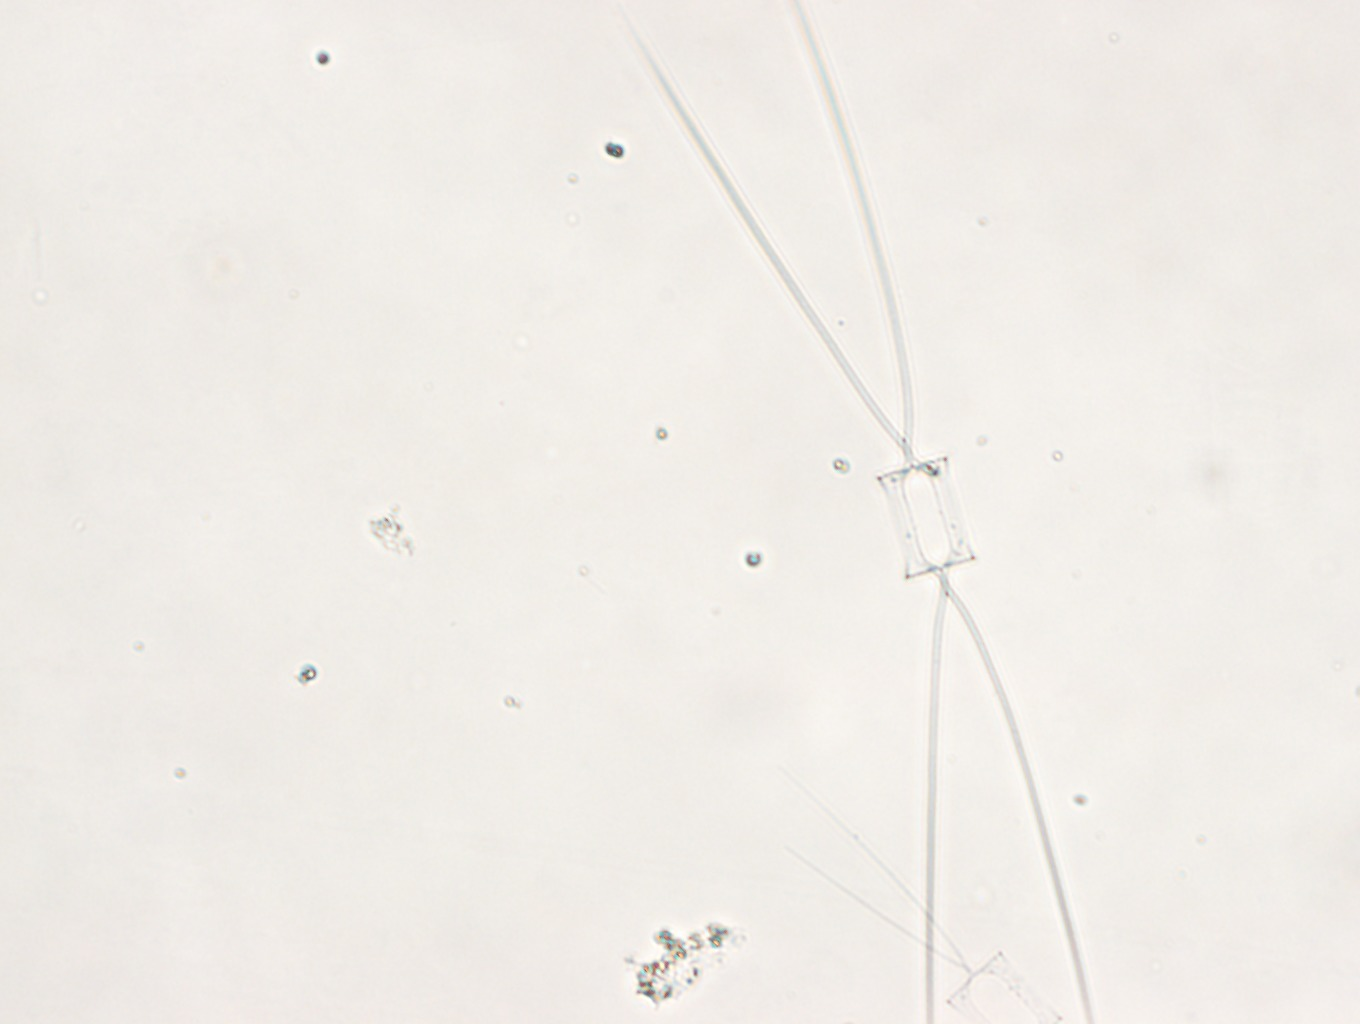chaetoceros: (614, 2, 1094, 1024), (775, 760, 1066, 1024)
